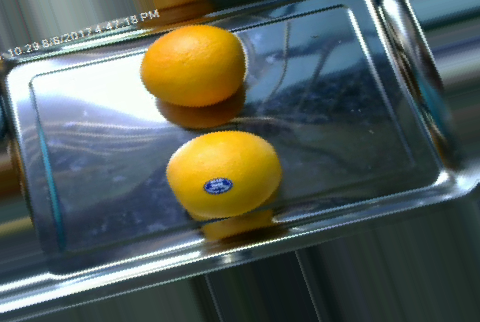Orange: (166, 129, 283, 218), (139, 23, 244, 106)
